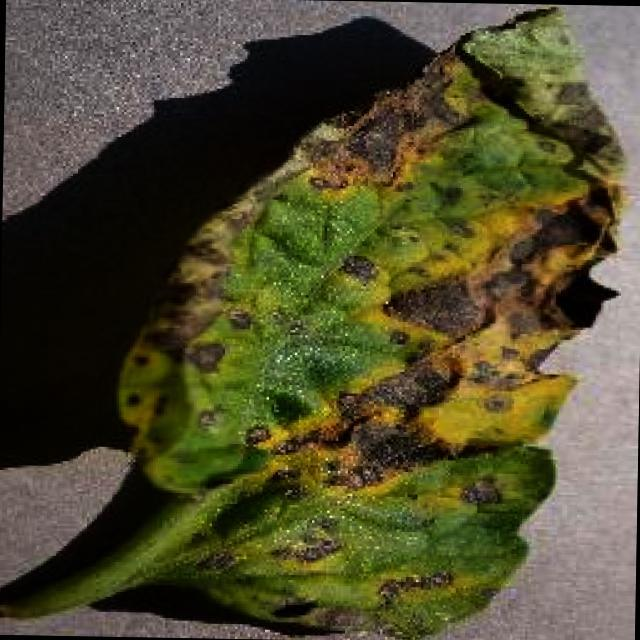Tomato Early blight leaf: (111, 1, 623, 640)
